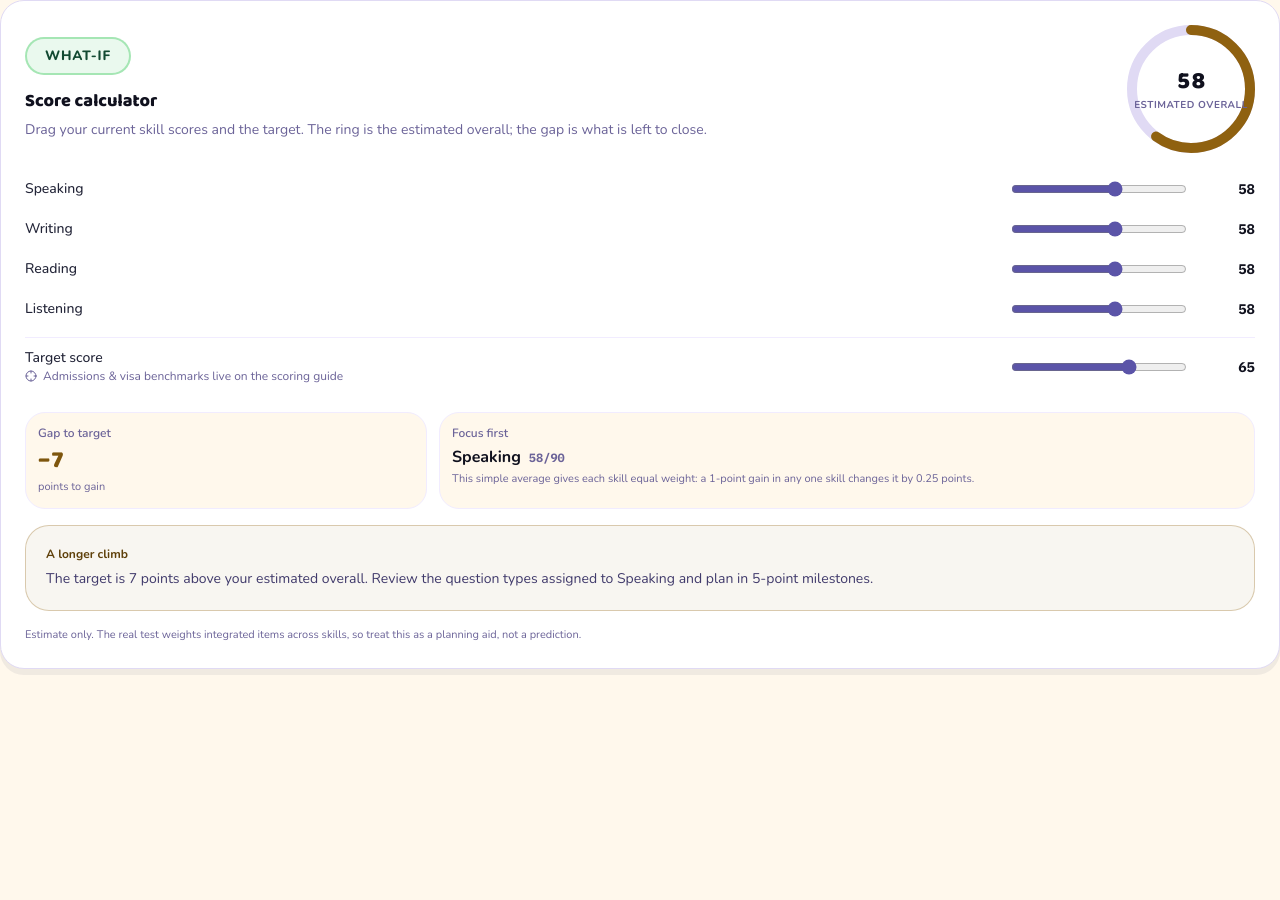
Test: ScoreCalculator › falls back to an average when one skill cannot carry the target alone
Set the slider labelled "Speaking" to "88" at (1175, 189), box [1011,181,1187,197]
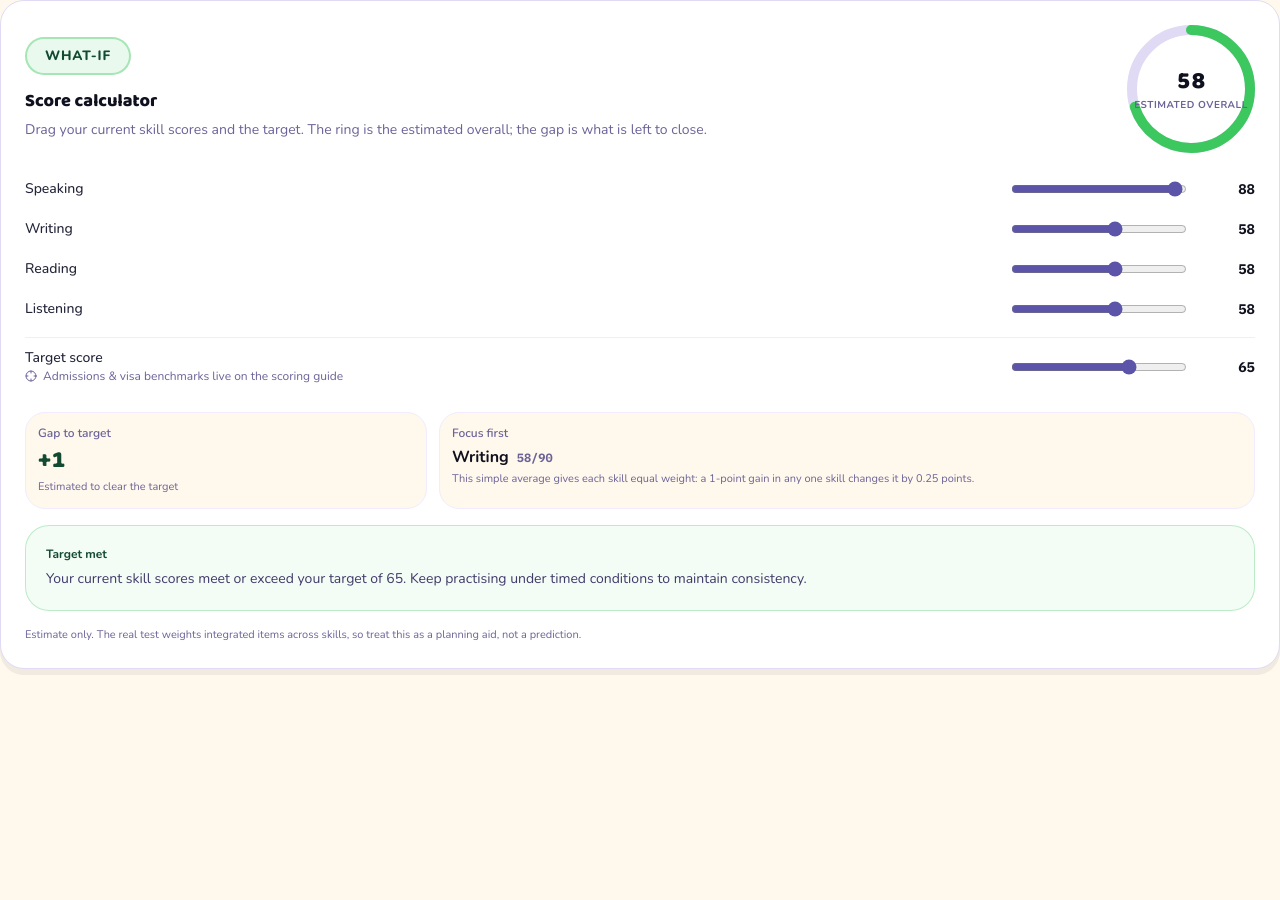
Set the slider labelled "Writing" to "88" at (1175, 229), box [1011,221,1187,237]
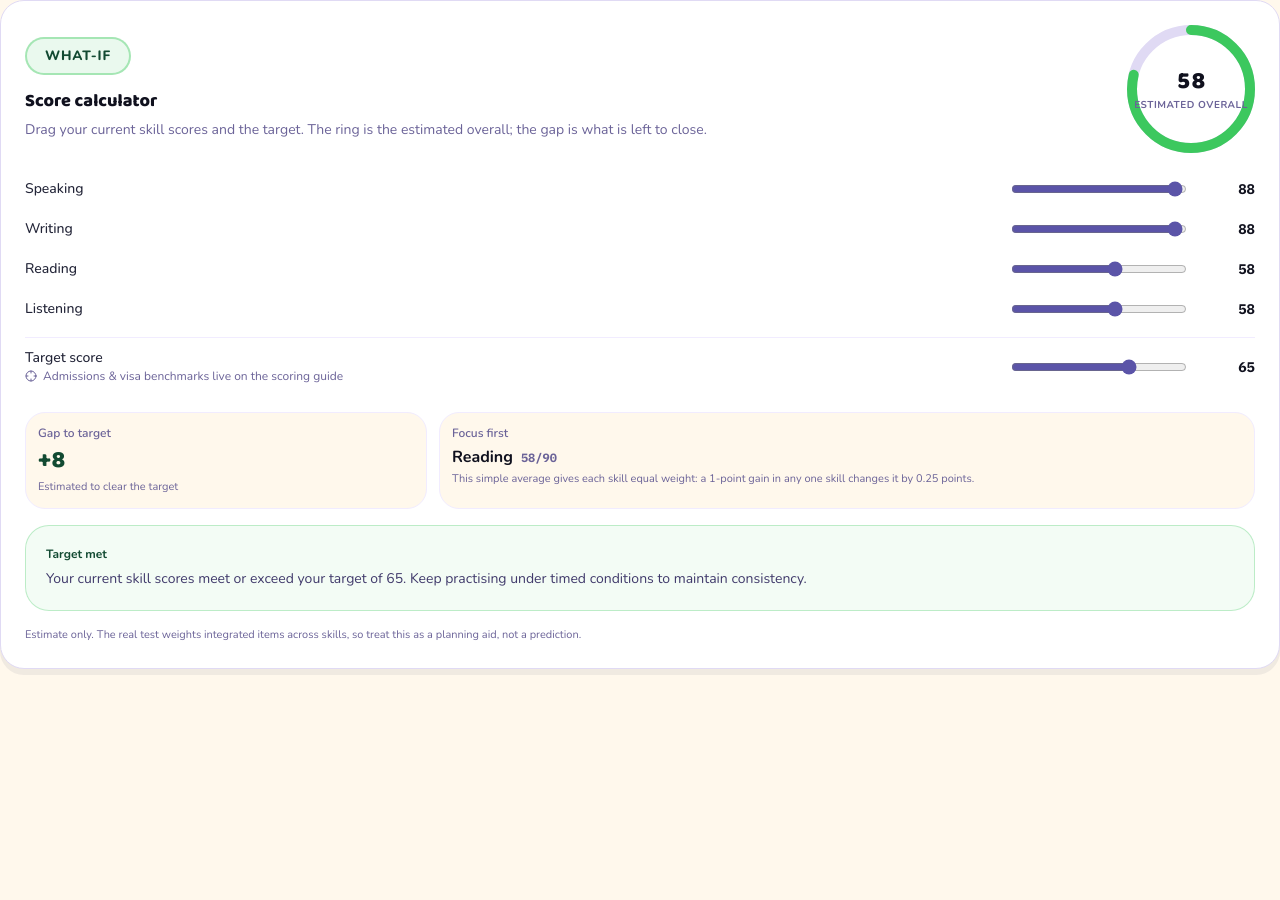
Set the slider labelled "Reading" to "88" at (1175, 269), box [1011,261,1187,277]
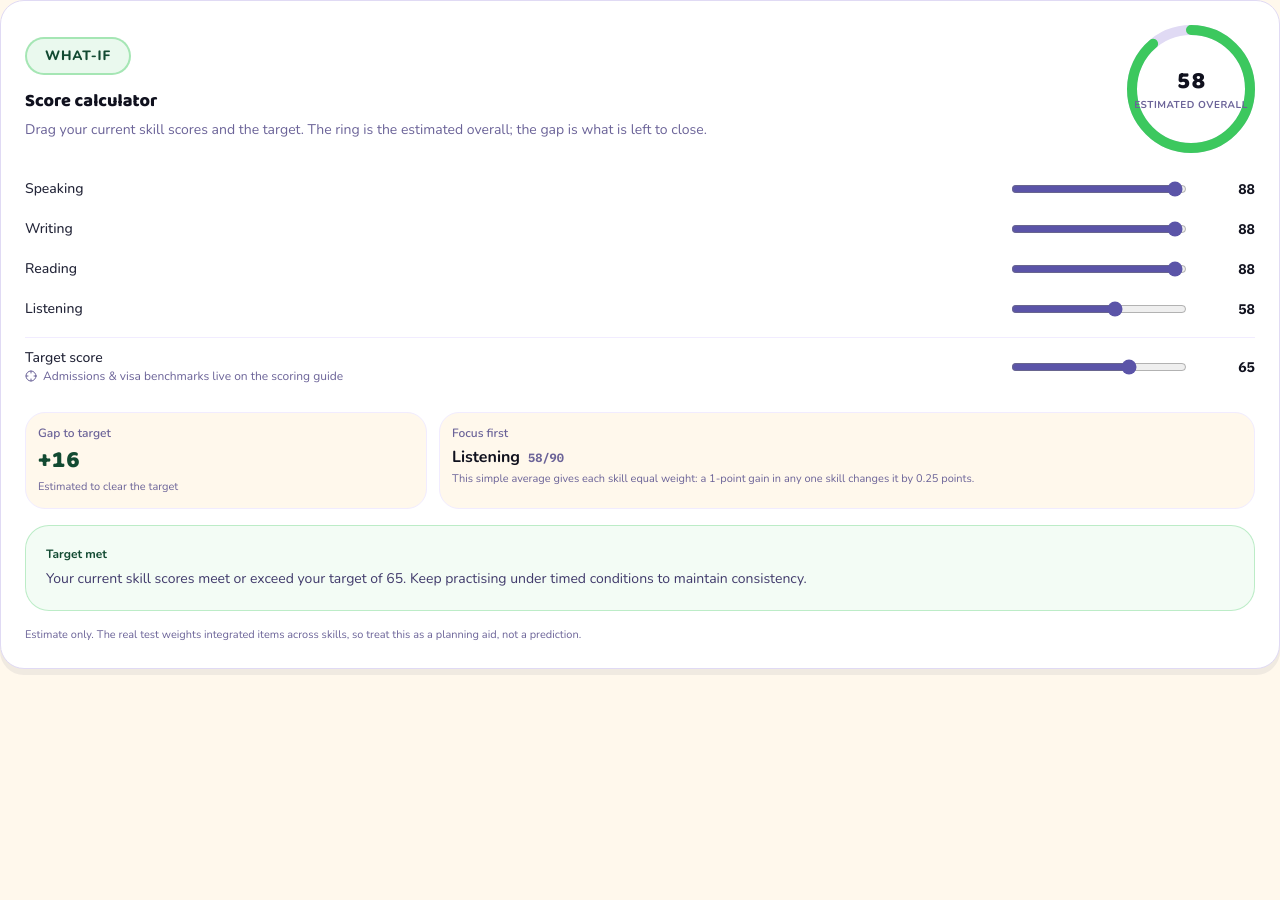
Set the slider labelled "Listening" to "88" at (1175, 309), box [1011,301,1187,317]
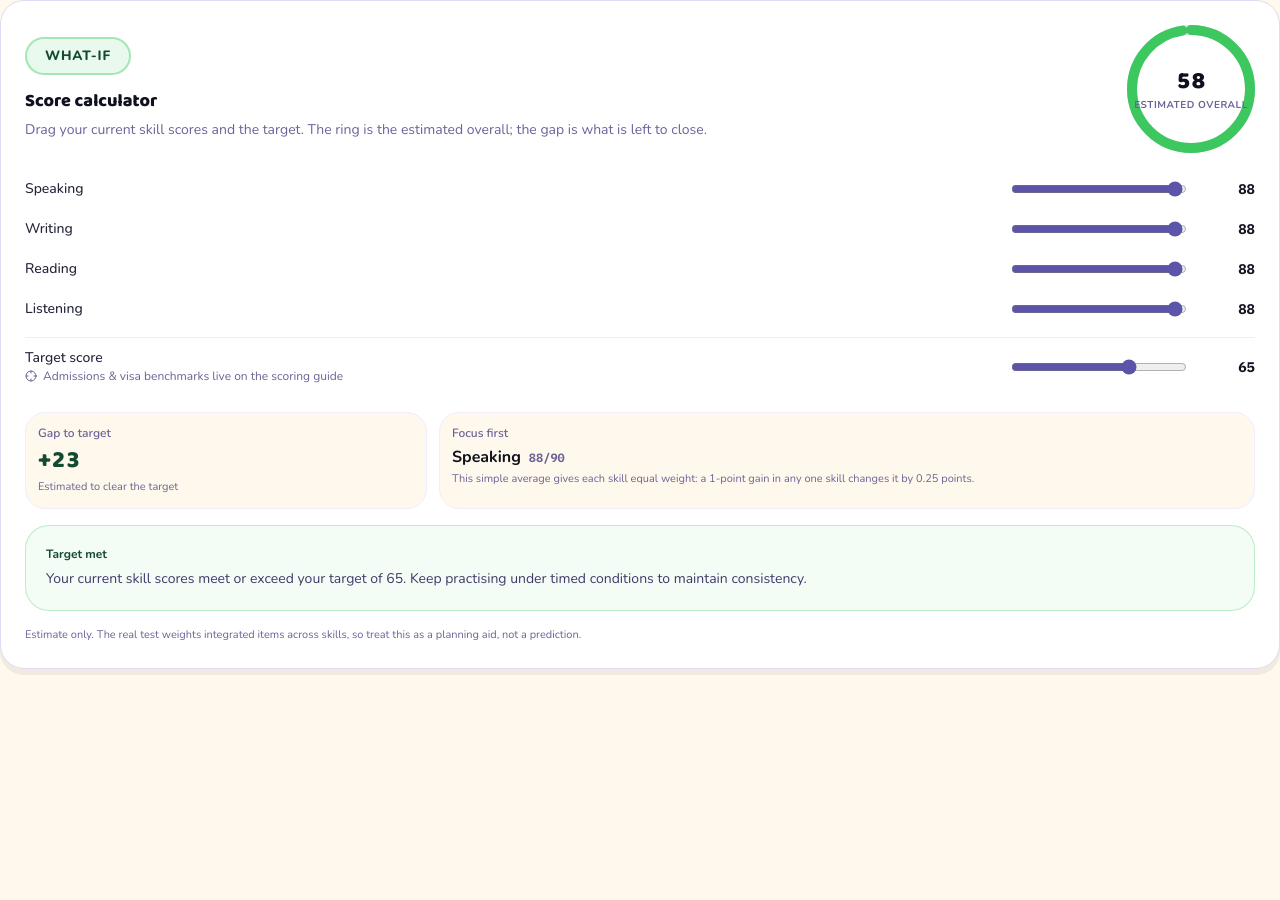
Set the slider labelled "Target score" to "90" at (1179, 367), box [1011,359,1187,375]
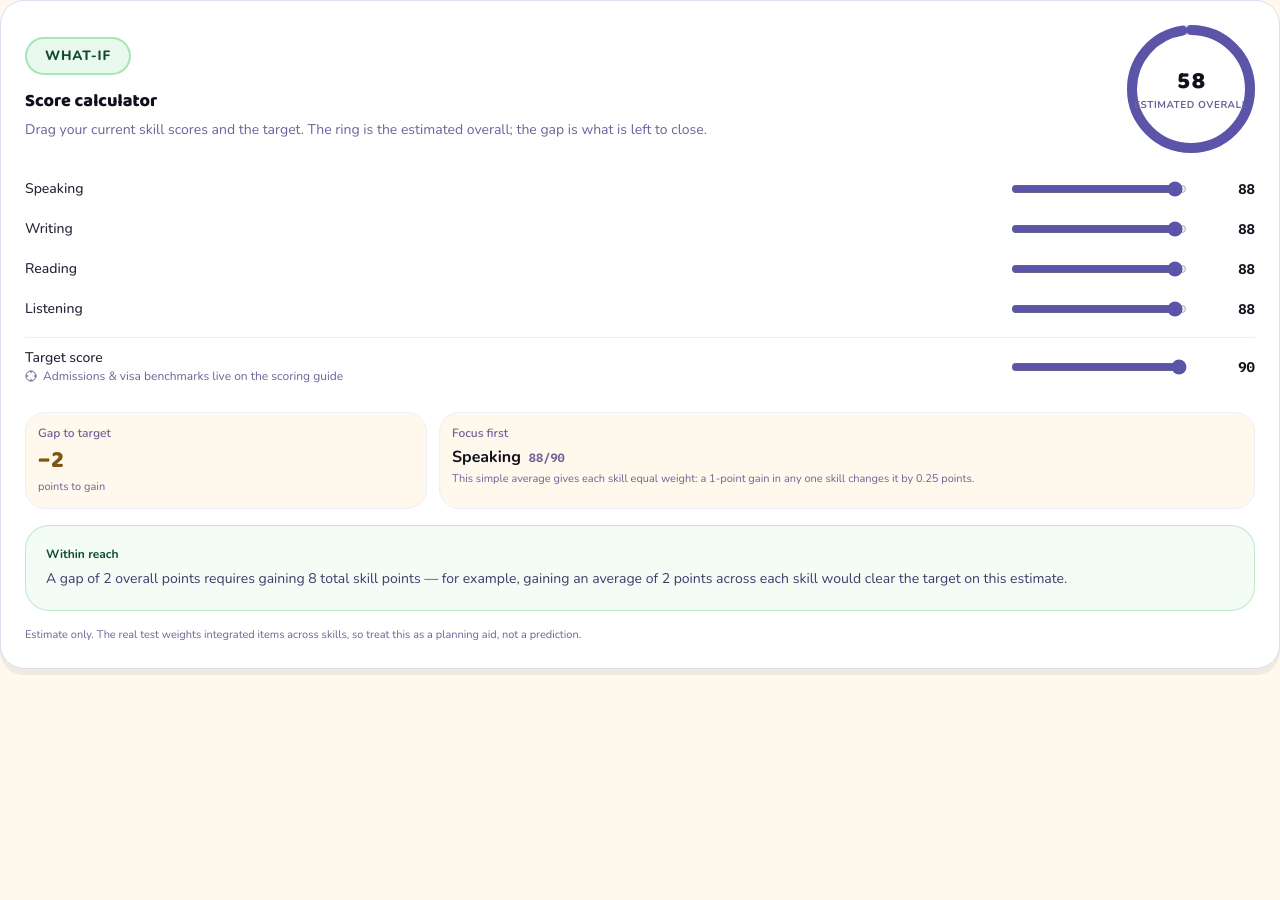
Now the text "Within reach" is shown, box [46,546,118,562]
Now the text "an average of 2 points across each skill" is shown, box [573,568,818,588]
